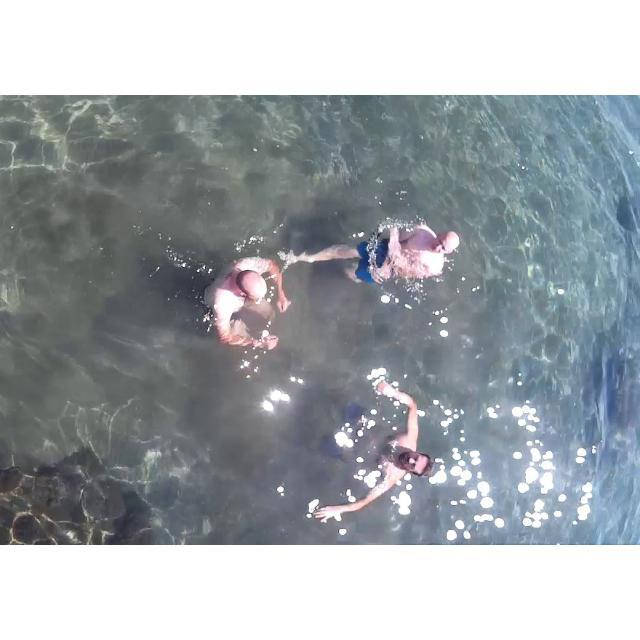human: (316, 348, 438, 534), (182, 231, 301, 356), (293, 210, 457, 282)
